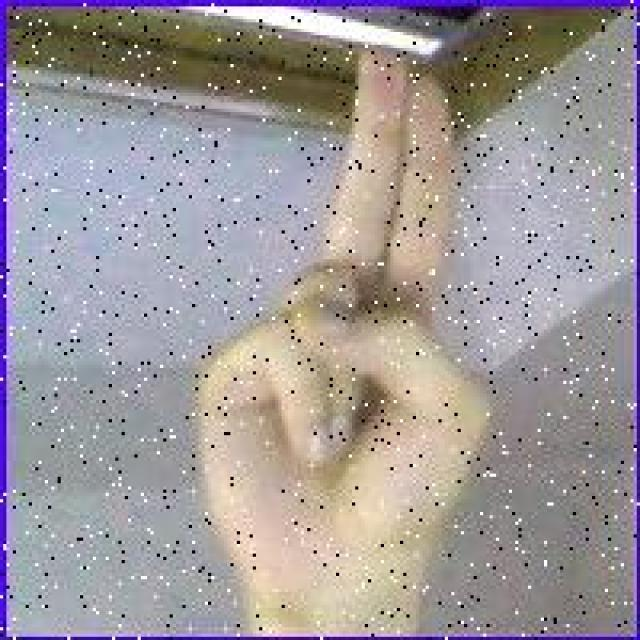U: (190, 41, 494, 582)
